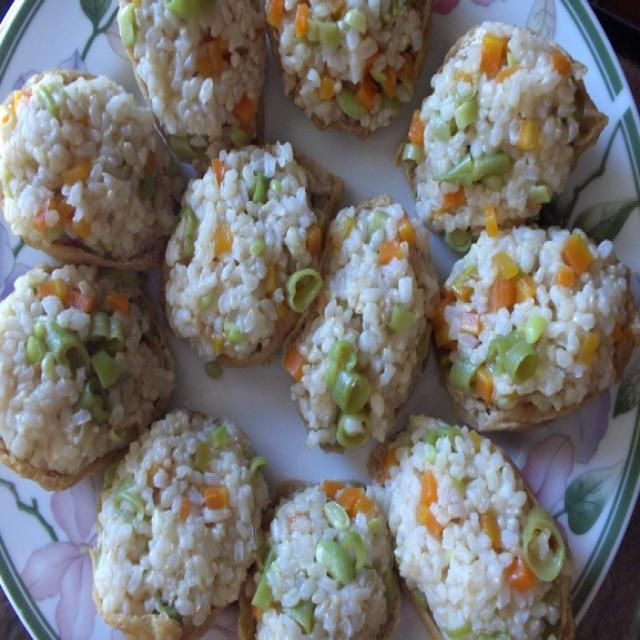寿司卷物: (33, 24, 621, 612)
